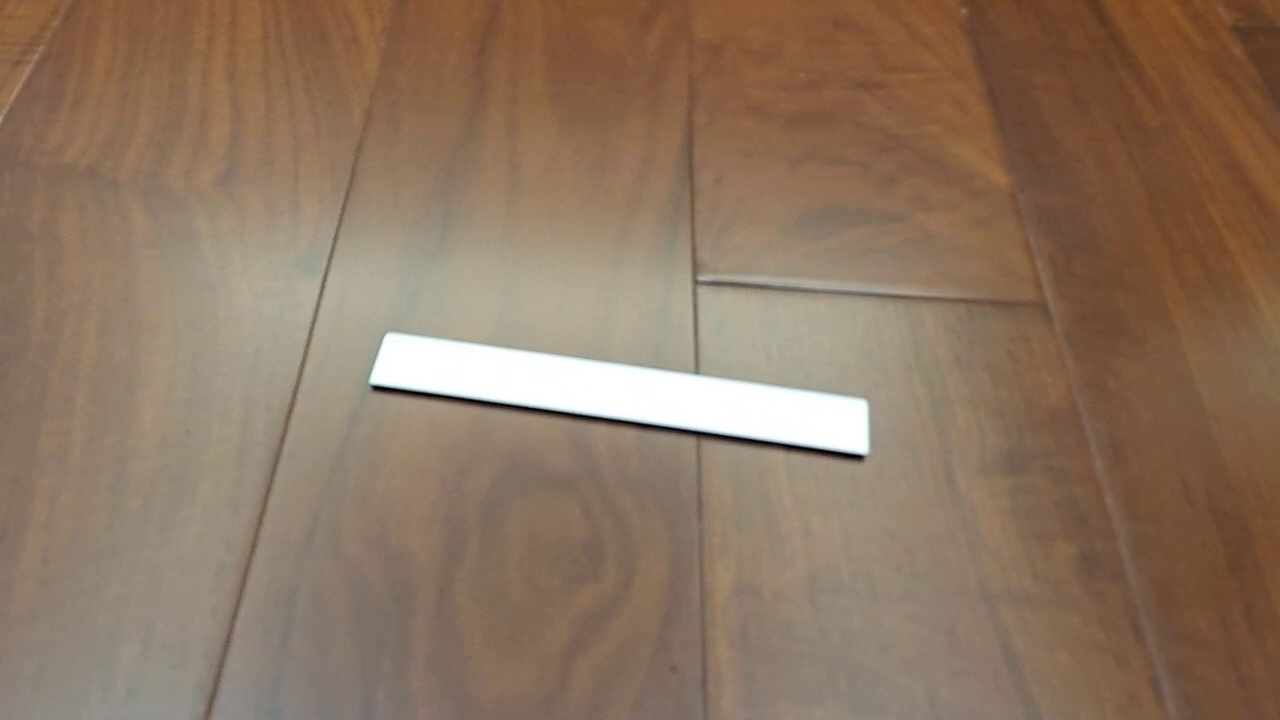ruler: (366, 330, 872, 458)
